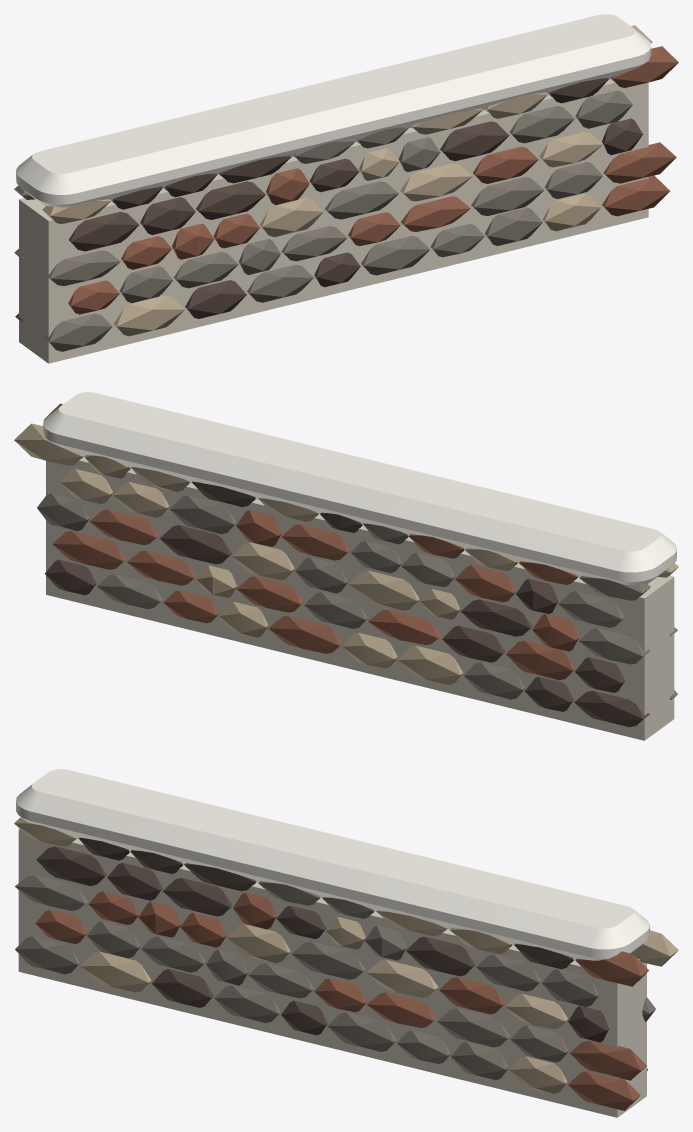
The model's file is stone-wall.glb.
The picture shows the model from 3 angles, top to bottom: view 1: azimuth 30°, elevation 25°; view 2: azimuth 150°, elevation 25°; view 3: azimuth 330°, elevation 25°; orthographic projection.
Visible parts, largest first — view 1: white101, mortar0, lime52, rust70, grey68, lava81, lava88, grey76, grey56, lime77, lava83, rust60 (+40 smaller); view 2: white101, mortar0, lime24, rust19, lava27, rust6, rust12, lime4, lava22, grey37, lava1, rust14 (+39 smaller); view 3: white101, mortar0, rust70, lime52, lava81, grey68, rust60, lava88, grey76, grey56, lime77, lava83 (+41 smaller).
Boxes of the visible parts, x1,y1,x2,y2 form: white101: (16, 14, 651, 207); mortar0: (19, 79, 648, 363); lime52: (114, 295, 184, 336); rust70: (603, 142, 676, 183); grey68: (471, 177, 544, 215); lava81: (68, 211, 138, 251); lava88: (440, 121, 509, 161); grey76: (325, 181, 398, 219); grey56: (361, 236, 429, 275); lime77: (400, 163, 472, 201); lava83: (196, 181, 265, 219); rust60: (602, 175, 669, 216); white101: (43, 392, 676, 584); mortar0: (46, 457, 674, 740); lime24: (348, 570, 419, 610); rust19: (52, 531, 125, 569); lava27: (160, 525, 232, 564); rust6: (268, 615, 342, 653); rust12: (506, 640, 575, 680); lime4: (398, 645, 463, 684); lava22: (460, 599, 532, 636); grey37: (170, 495, 236, 534); lava1: (574, 690, 649, 727); rust14: (368, 609, 441, 644); white101: (16, 769, 649, 960); mortar0: (18, 829, 646, 1117); rust70: (570, 1040, 646, 1080); lime52: (80, 951, 151, 992); lava81: (36, 846, 106, 885); grey68: (437, 1008, 510, 1047); rust60: (568, 1071, 640, 1110); lava88: (406, 936, 475, 976); grey76: (292, 941, 365, 979); grey56: (327, 1012, 396, 1051); lime77: (366, 959, 438, 997); lava83: (163, 878, 232, 916).
Size of the model in its own units: 4.19 by 1.17 by 0.52.
